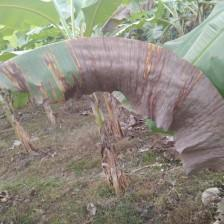sigatoka: (0, 37, 224, 176)
